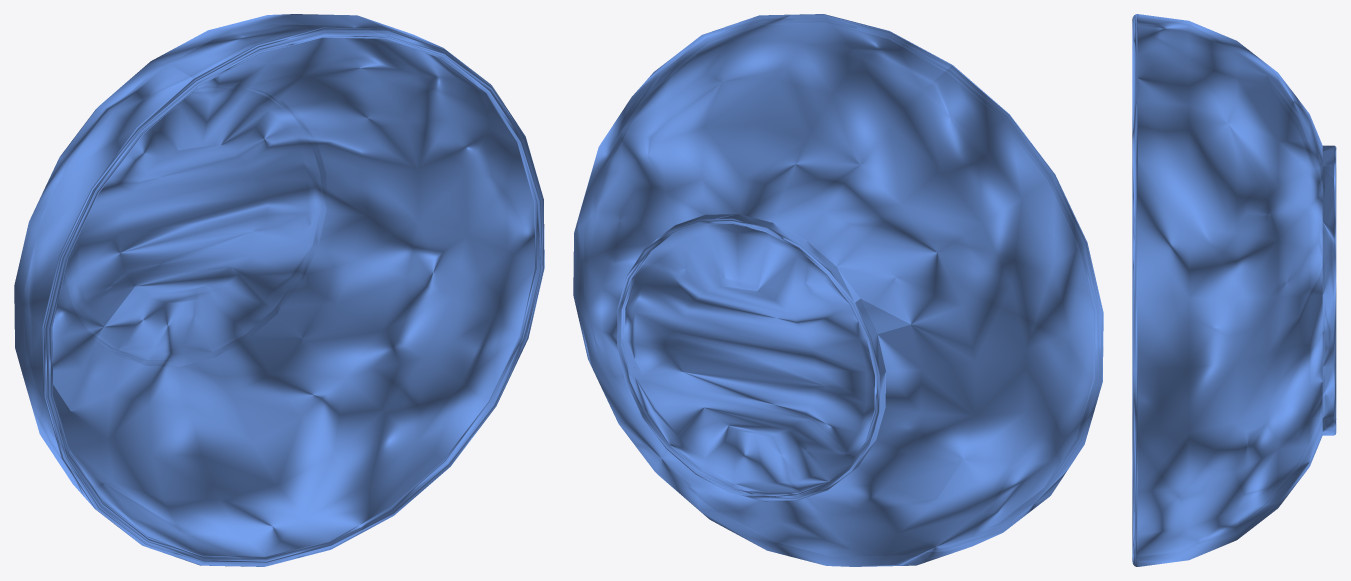
File: model_align.obj
3 views of the same model, side by side, from view 1: azimuth 30°, elevation 25°; view 2: azimuth 150°, elevation 25°; view 3: azimuth 270°, elevation 25° (orthographic). The views are drawn at different scales.
Size of the model in its own units: 0.1513 by 0.1513 by 0.0562.
